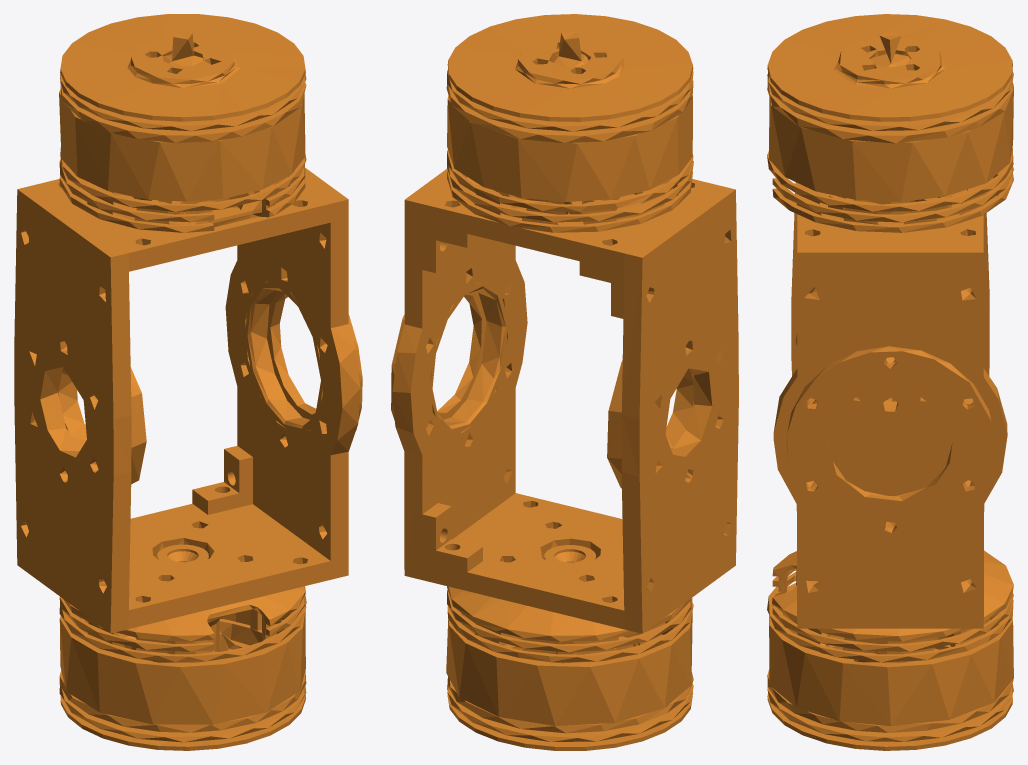
Rendered from tilt_roll_l.dae.
3 views of the same model, side by side, from view 1: azimuth 30°, elevation 25°; view 2: azimuth 150°, elevation 25°; view 3: azimuth 270°, elevation 25° (orthographic).
Parts seen in each view (by area): view 1: arm_l_roll; view 2: arm_l_roll; view 3: arm_l_roll.
Boxes of the visible parts, x1,y1,x2,y2 form: arm_l_roll: (14, 14, 362, 750); arm_l_roll: (391, 14, 738, 750); arm_l_roll: (767, 14, 1013, 750).
Size of the model in its own units: 0.055 by 0.0476 by 0.1478.
